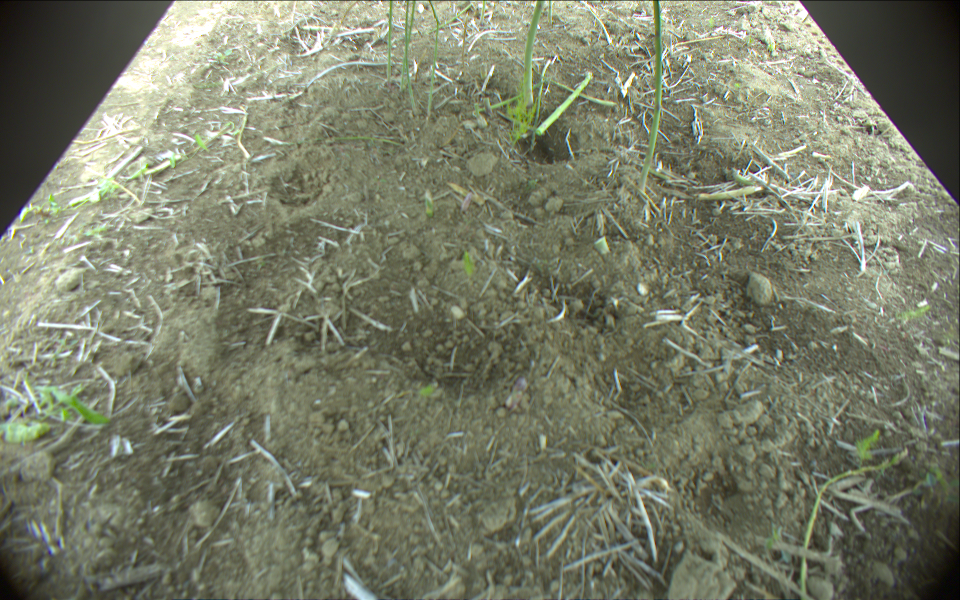aspa: (802, 448, 916, 600), (505, 50, 615, 107), (636, 1, 665, 192), (534, 69, 591, 135), (523, 1, 542, 106), (402, 1, 420, 110), (400, 1, 421, 93), (423, 3, 475, 35), (427, 1, 441, 111), (385, 1, 395, 83), (482, 1, 490, 27), (547, 1, 555, 22)
